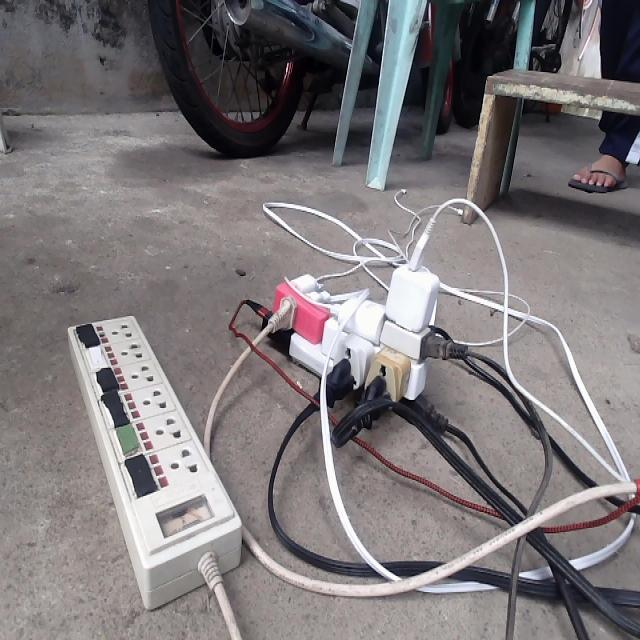-: (227, 221, 469, 443)
